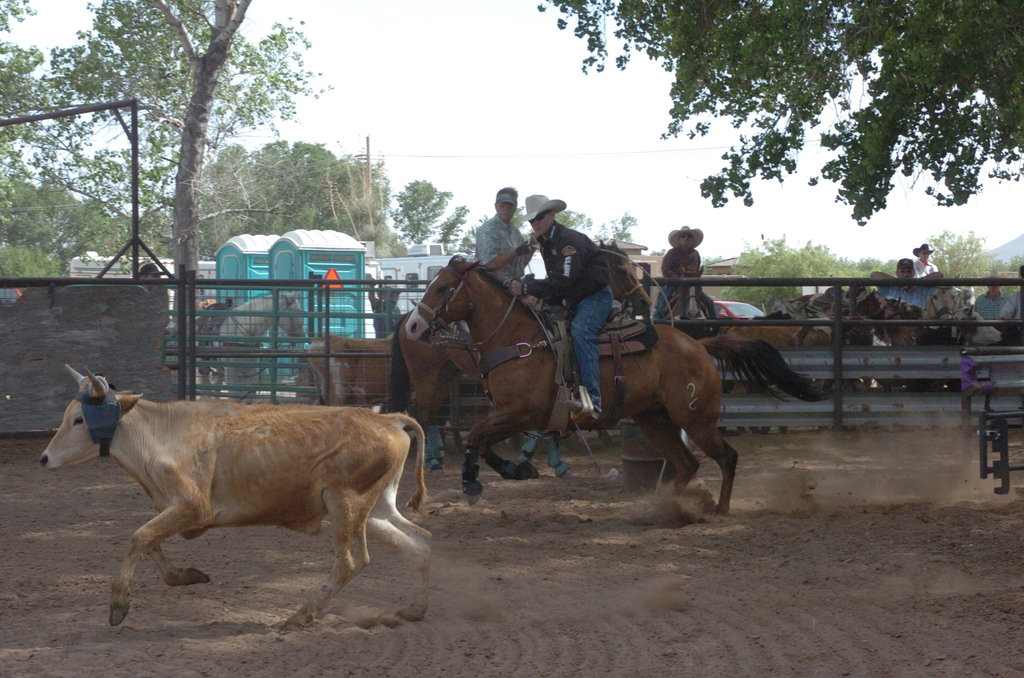Person: (508, 193, 615, 421), (474, 187, 542, 291), (648, 227, 718, 319), (866, 256, 945, 306), (364, 272, 406, 339), (976, 268, 1008, 319), (1001, 263, 1024, 319), (133, 261, 168, 289), (913, 242, 940, 278)
